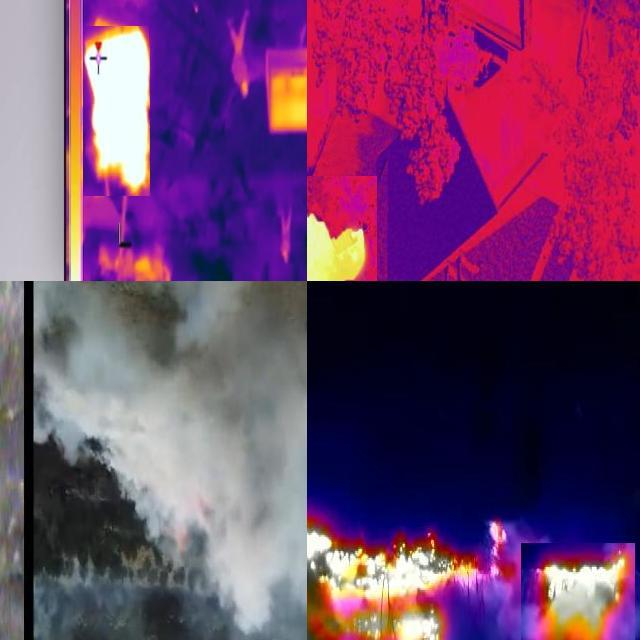fire: (308, 512, 508, 640), (83, 26, 150, 196), (521, 543, 635, 640), (306, 213, 371, 283)
